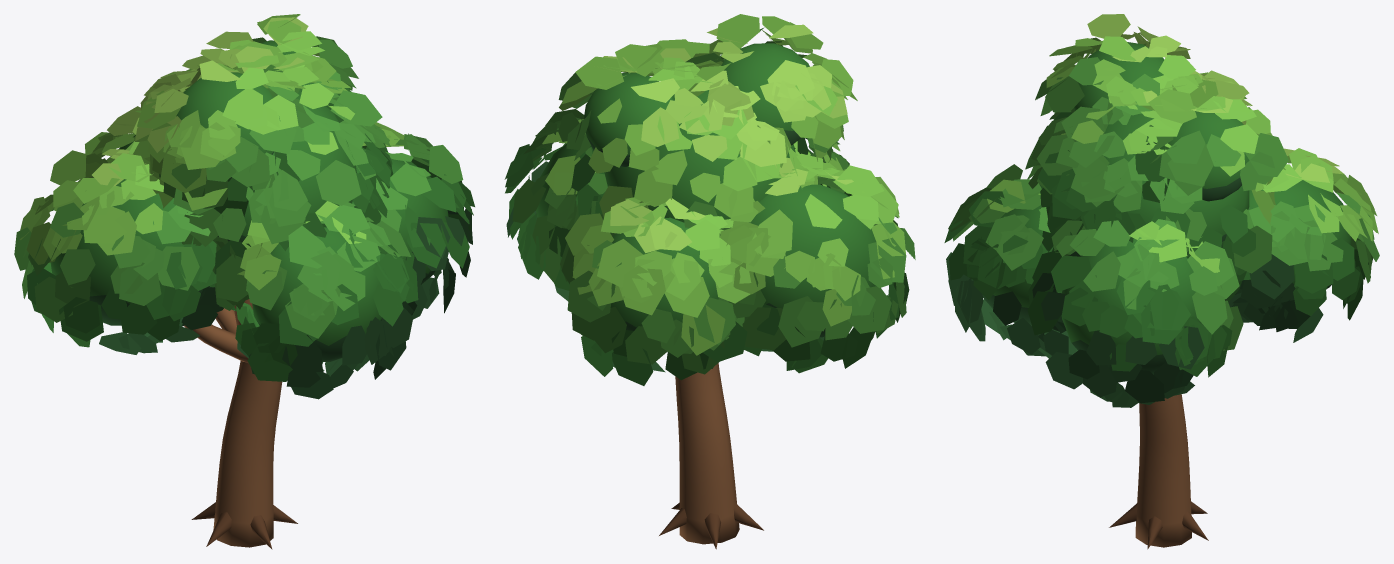
The model's file is TreeOak.glb.
The picture shows the model from 3 angles, left to right: view 1: azimuth 30°, elevation 25°; view 2: azimuth 150°, elevation 25°; view 3: azimuth 270°, elevation 25°; orthographic projection. The views are drawn at different scales.
Visible parts, largest first — view 1: Canopy, Body; view 2: Canopy, Body; view 3: Canopy, Body.
Boxes of the visible parts, x1,y1,x2,y2 form: Canopy: (14,14,474,399); Body: (184,299,297,549); Canopy: (504,14,915,385); Body: (659,363,763,549); Canopy: (944,14,1379,407); Body: (1109,394,1208,549).
Bounding box in the file's own units: 12.53 × 14.6 × 11.75.
2 materials, 2 textured.
